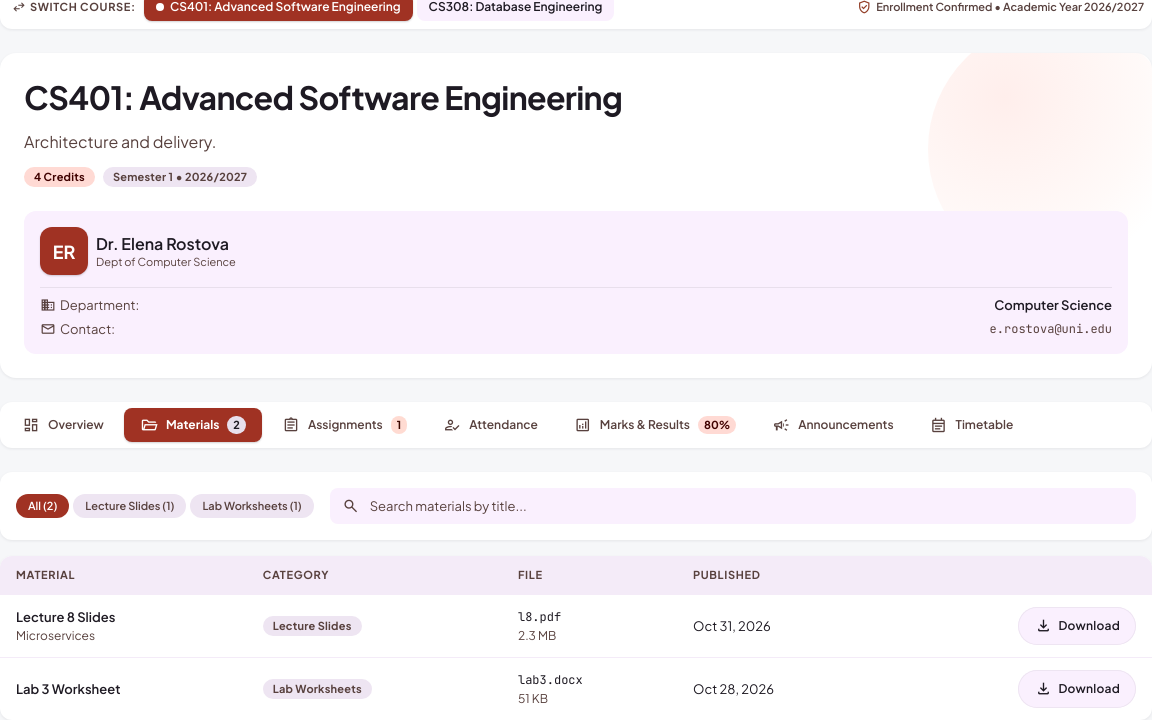
Scenario: course detail › shows a download failure without leaving the page
The width and height of the screenshot is (1152, 720).
(page scrolled)
Expected: the text "Lecture 8 Slides" is shown, x1=16 y1=609 x2=115 y2=625
Click the button with aria-label "Download Lecture 8 Slides".
click(1077, 626)  # box x1=1018 y1=607 x2=1136 y2=645
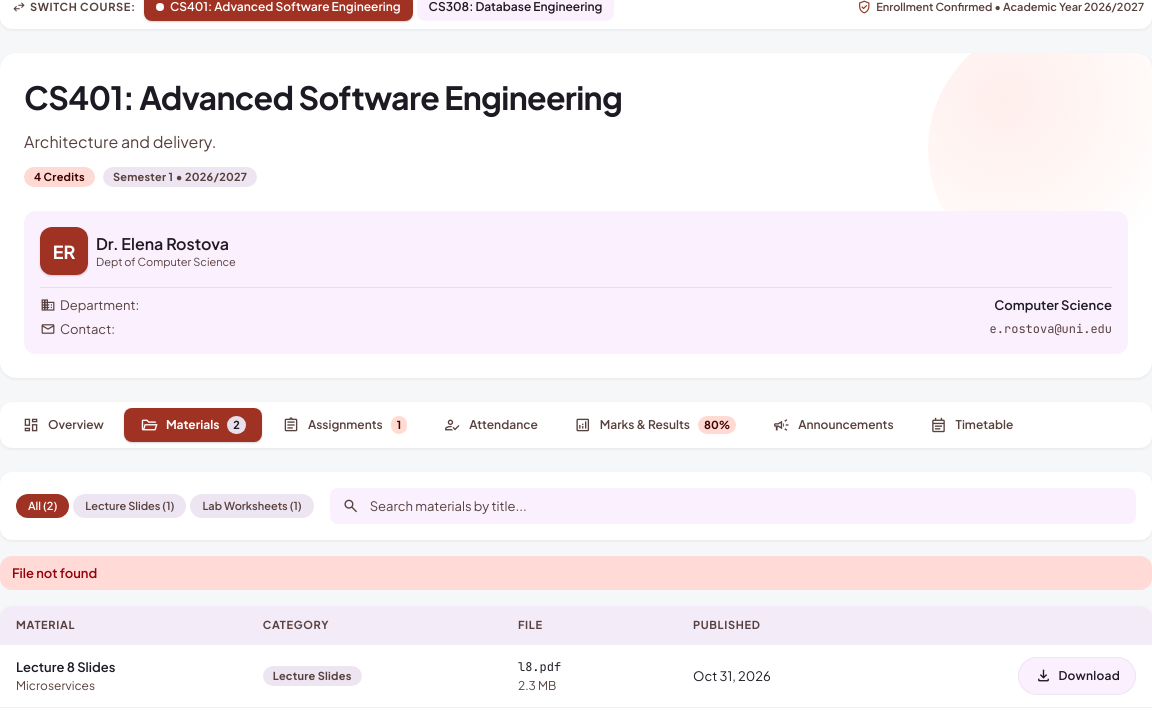
Expected: the message reads "File not found", x1=12 y1=565 x2=97 y2=581
